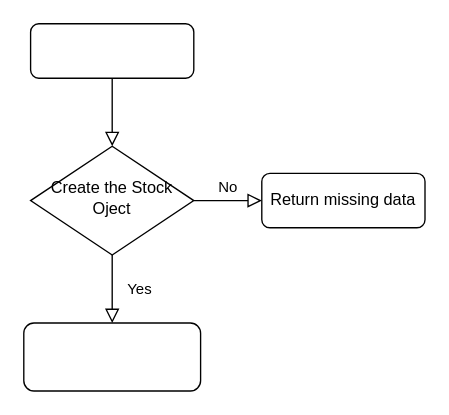
Some shapes in this 449 by 415 pixel diagram are drawn without their labels. Each missing label, with the box of its shape:
Call function for add stock data to database: (22, 322, 201, 391)
Receive the Stock data form file or API: (29, 22, 194, 78)
